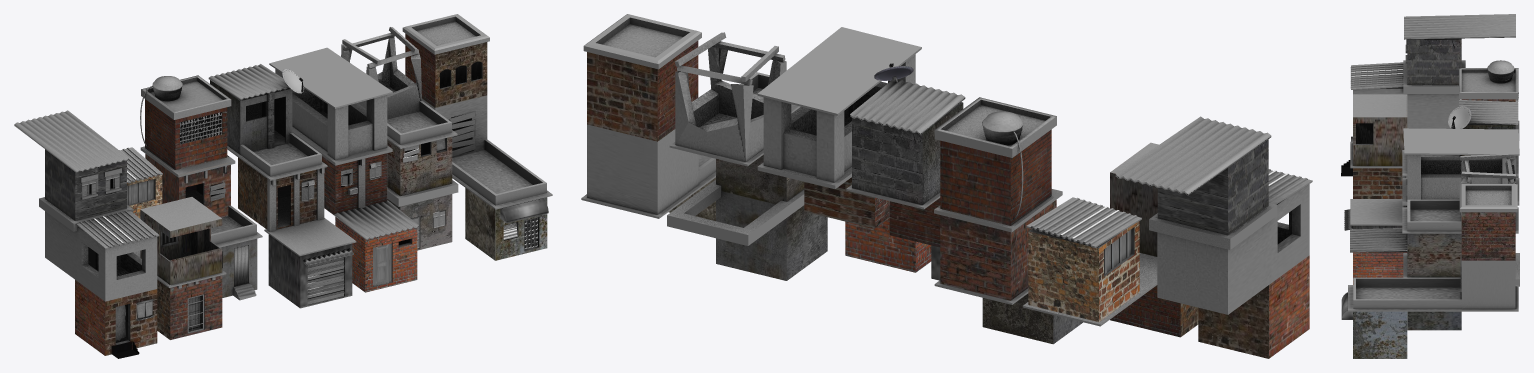
Rendered from modular-slums.glb.
The picture shows the model from 3 angles, left to right: view 1: azimuth 30°, elevation 25°; view 2: azimuth 150°, elevation 25°; view 3: azimuth 270°, elevation 25°; orthographic projection. The views are drawn at different scales.
Visible parts, largest first — view 1: C1_24, G1_3, F5_5, D3_17, F6_4, A6_30, A4_32, G4_0, B2_28, F2_8, G3_1, A2_34 (+23 smaller); view 2: C1_24, G1_3, F5_5, E1_14, D2_18, B2_28, G2_2, B3_27, A2_34, F6_4, F1_9, E5_10 (+18 smaller); view 3: C1_24, G1_3, G3_1, D3_17, G4_0, G2_2, F1_9, F2_8, E3_12, E2_13, B1_29, F5_5 (+16 smaller).
Boxes of the visible parts, <box> form: C1_24: <box>269,47,392,160</box>; G1_3: <box>402,14,489,107</box>; F5_5: <box>45,211,157,301</box>; D3_17: <box>140,197,222,284</box>; F6_4: <box>75,280,157,358</box>; A6_30: <box>268,234,353,308</box>; A4_32: <box>238,157,324,231</box>; G4_0: <box>465,188,548,260</box>; B2_28: <box>145,99,227,169</box>; F2_8: <box>45,149,126,220</box>; G3_1: <box>452,139,552,209</box>; A2_34: <box>210,69,303,154</box>; C1_24: <box>757,27,921,182</box>; G1_3: <box>583,14,701,141</box>; F5_5: <box>1157,184,1309,314</box>; E1_14: <box>675,32,786,161</box>; D2_18: <box>1028,221,1139,321</box>; B2_28: <box>940,129,1051,225</box>; G2_2: <box>587,124,698,214</box>; B3_27: <box>934,189,1062,300</box>; A2_34: <box>852,63,963,205</box>; F6_4: <box>1198,255,1309,358</box>; F1_9: <box>1115,116,1271,195</box>; E5_10: <box>716,191,827,280</box>; C1_24: <box>1403,128,1519,199</box>; G1_3: <box>1459,184,1517,260</box>; G3_1: <box>1348,277,1518,311</box>; D3_17: <box>1353,94,1407,165</box>; G4_0: <box>1341,292,1407,358</box>; G2_2: <box>1460,256,1515,309</box>; F1_9: <box>1404,14,1515,39</box>; F2_8: <box>1405,38,1461,84</box>; E3_12: <box>1407,233,1461,277</box>; E2_13: <box>1402,199,1518,233</box>; B1_29: <box>1459,60,1518,99</box>; F5_5: <box>1353,87,1459,128</box>.
Bounding box in the file's own units: 17.25 × 6.75 × 6.59.
Materials: 36 (36 with a texture image).
